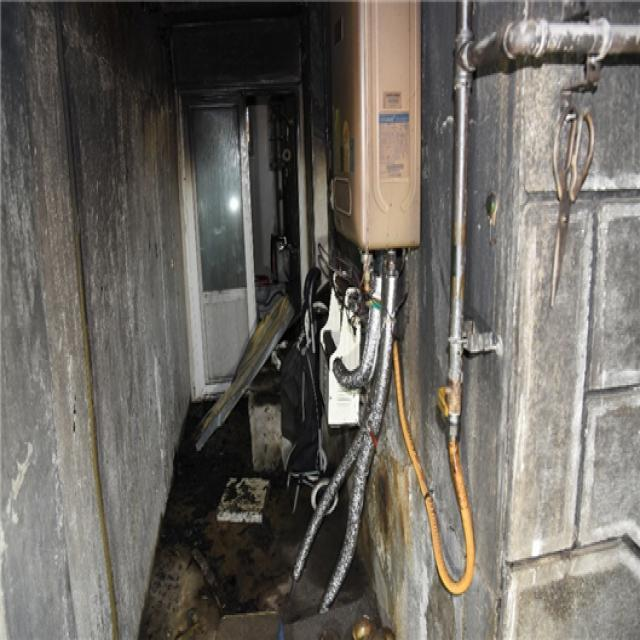Boiler: (296, 8, 477, 292)
